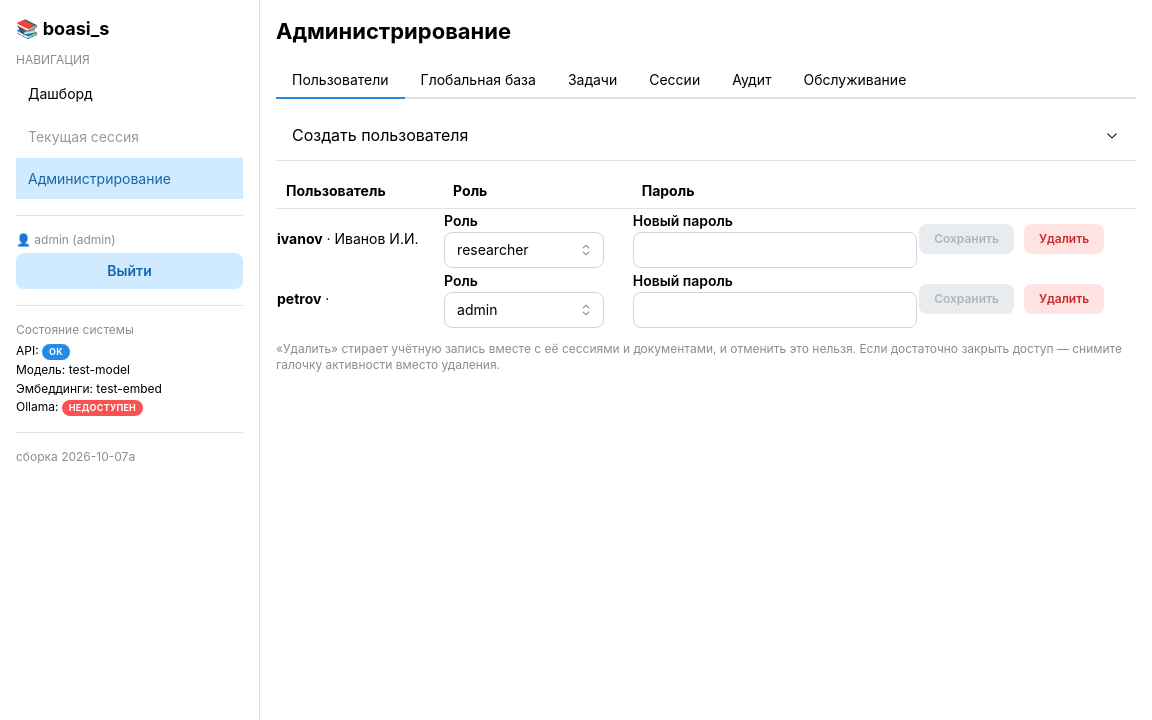
Test: админка › удаление: кнопка в строке, каскад-предупреждение и DELETE
The image size is (1152, 720).
Expected: the text "ivanov" is shown, [277,230,323,247]
Step 1. Click the button with aria-label "Удалить: ivanov" → (1064, 239), box [1024,224,1104,254]
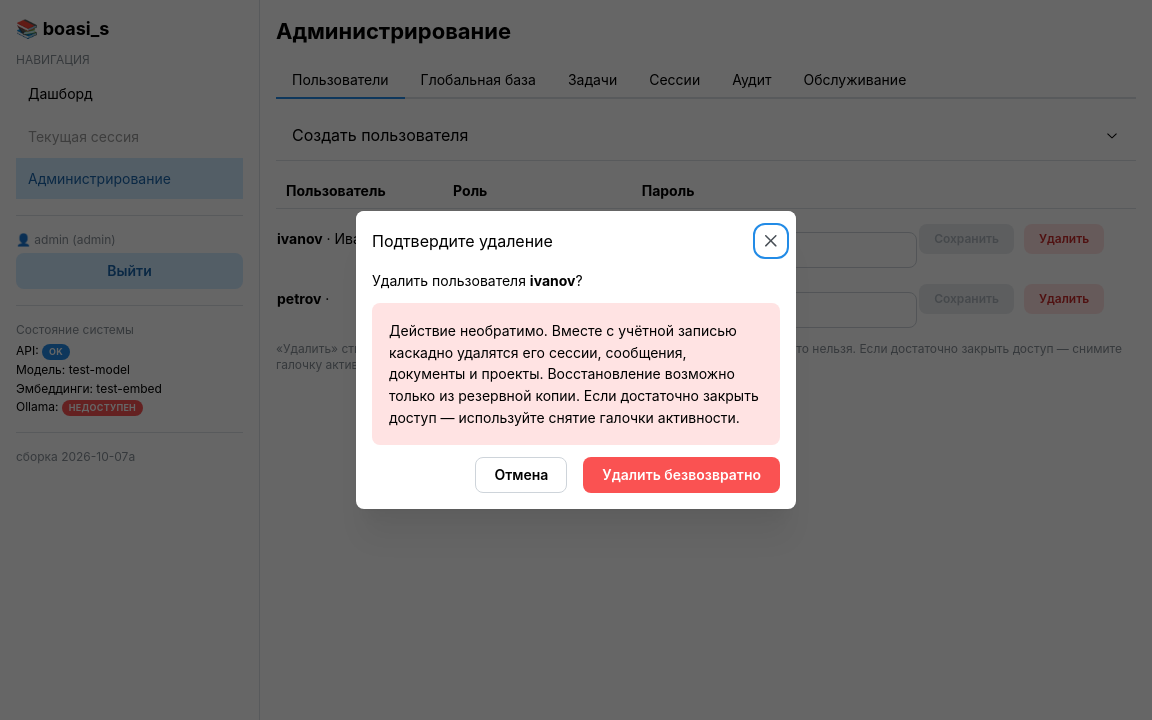
Expected: the text "сессии, сообщения, документы и проекты" is shown, [389,322,759,426]
Step 2. Click the button "Удалить безвозвратно" → (682, 475), box [583,457,780,493]
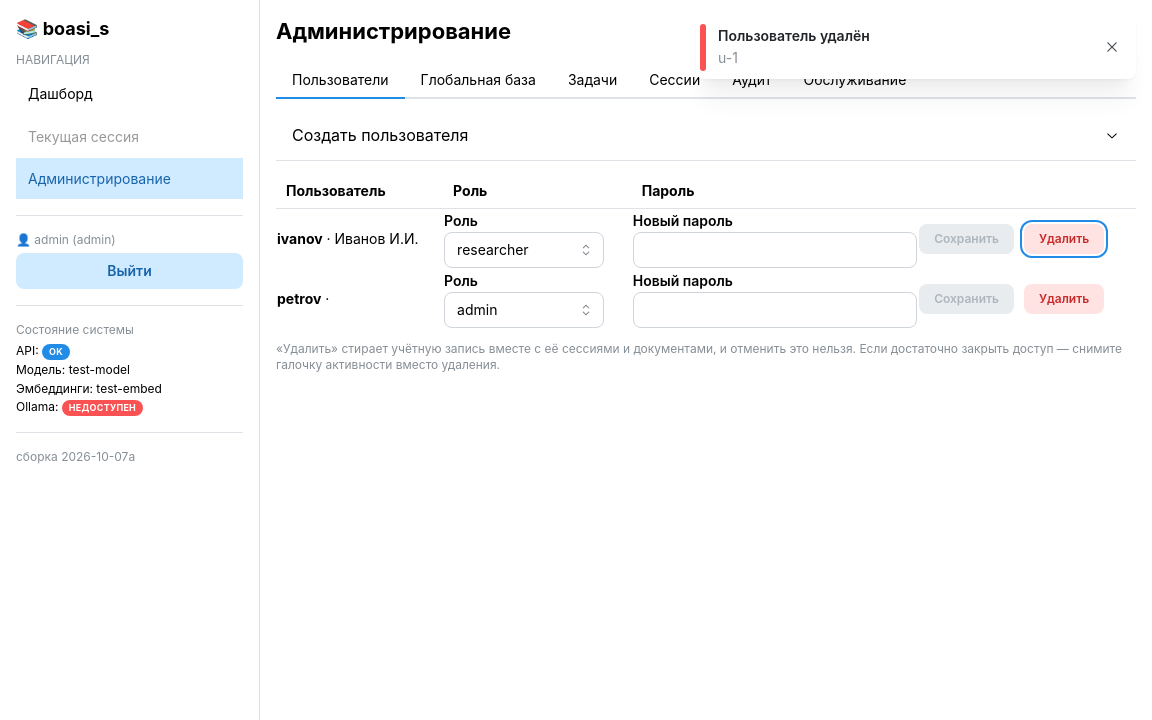
Expected: the text "Действие необратимо" is gone
